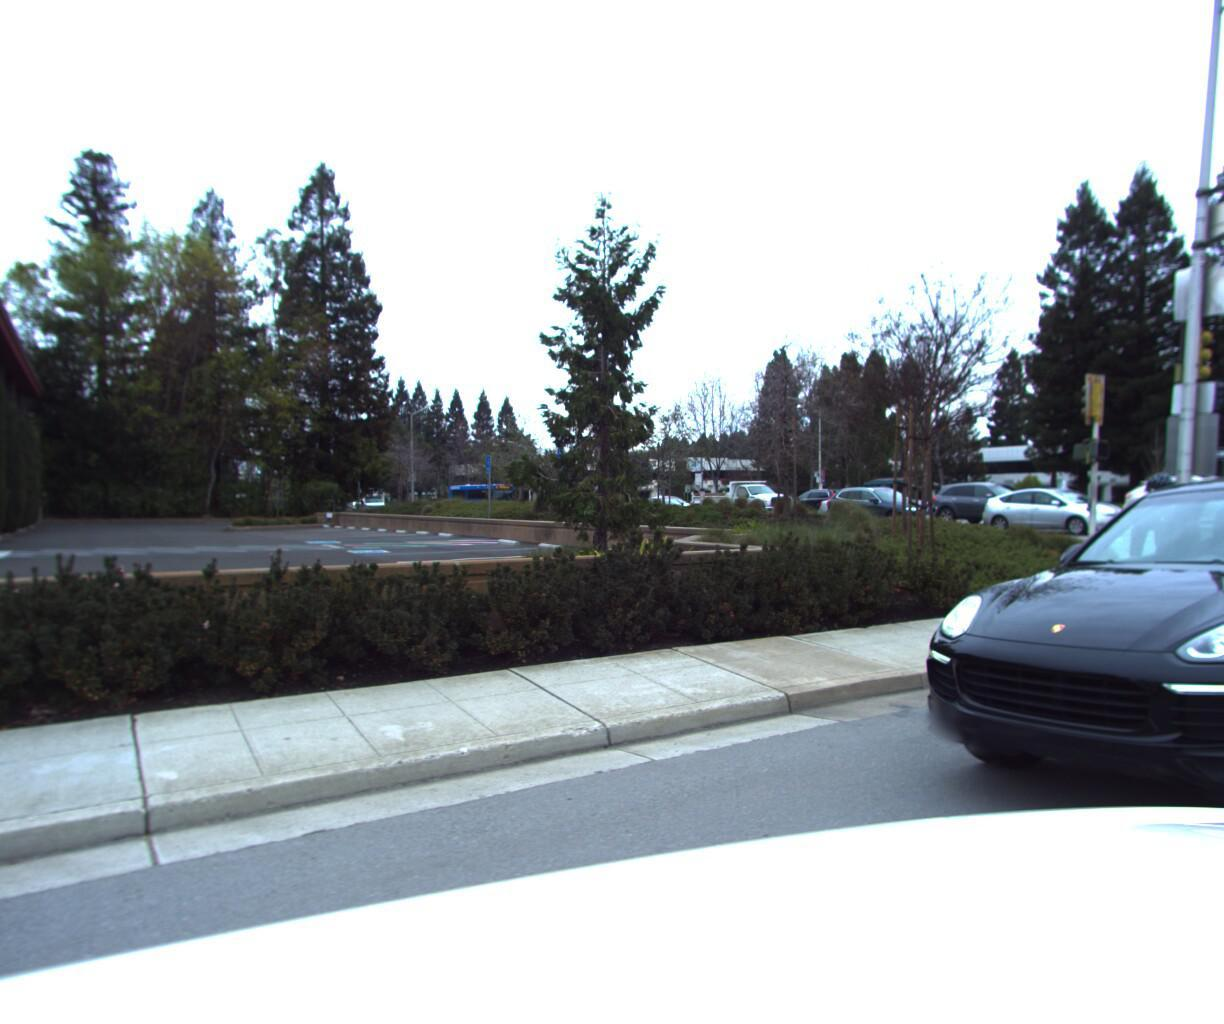bicycle: (1082, 451, 1224, 669)
bus: (443, 477, 516, 509)
car: (850, 406, 1224, 906), (978, 480, 1135, 532), (1116, 464, 1224, 526), (926, 475, 1061, 524), (819, 479, 944, 526), (686, 477, 798, 522)
truck: (347, 487, 388, 518)
